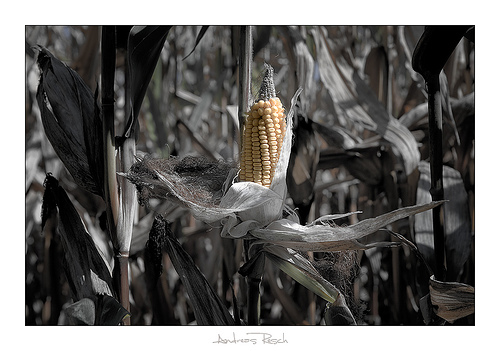corn: (239, 97, 286, 188)
